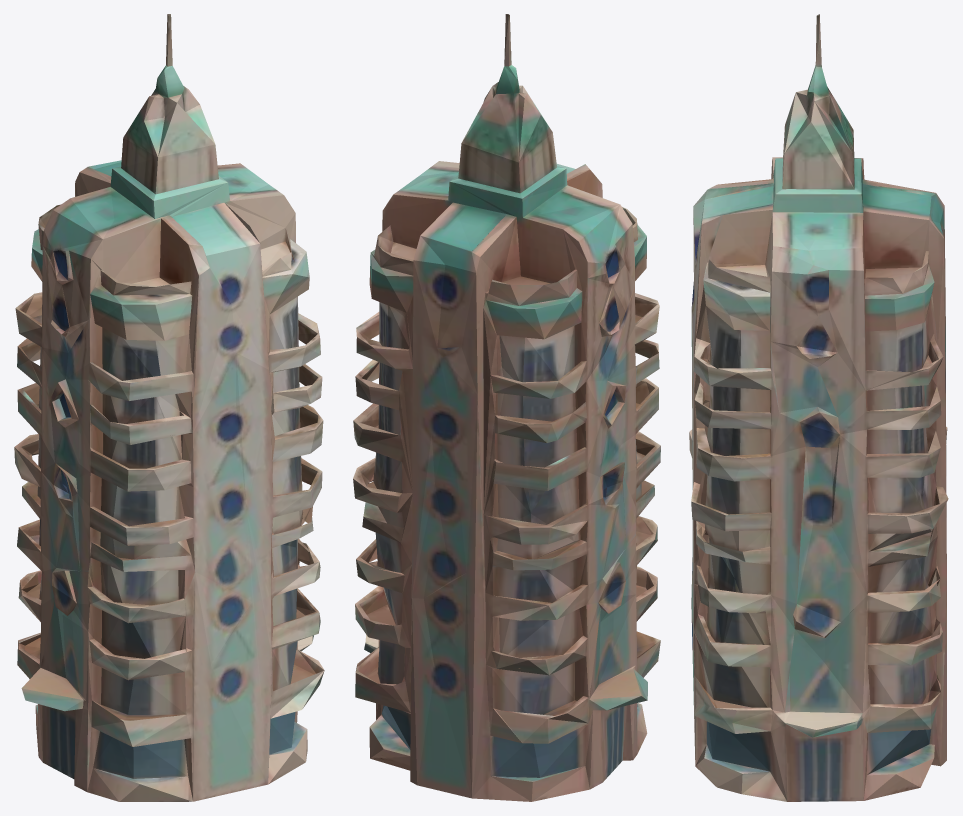
File: b-deco.glb
3 views of the same model, side by side, from view 1: azimuth 30°, elevation 25°; view 2: azimuth 150°, elevation 25°; view 3: azimuth 270°, elevation 25° (orthographic).
Visible parts, largest first — view 1: geometry_0; view 2: geometry_0; view 3: geometry_0.
Part boxes in pixels (x1,y1,x2,y2): geometry_0: (14,14,324,801); geometry_0: (353,14,660,801); geometry_0: (689,14,948,801).
Size of the model in its own units: 0.4048 by 0.9991 by 0.3198.
Materials: 1 (1 with a texture image).
